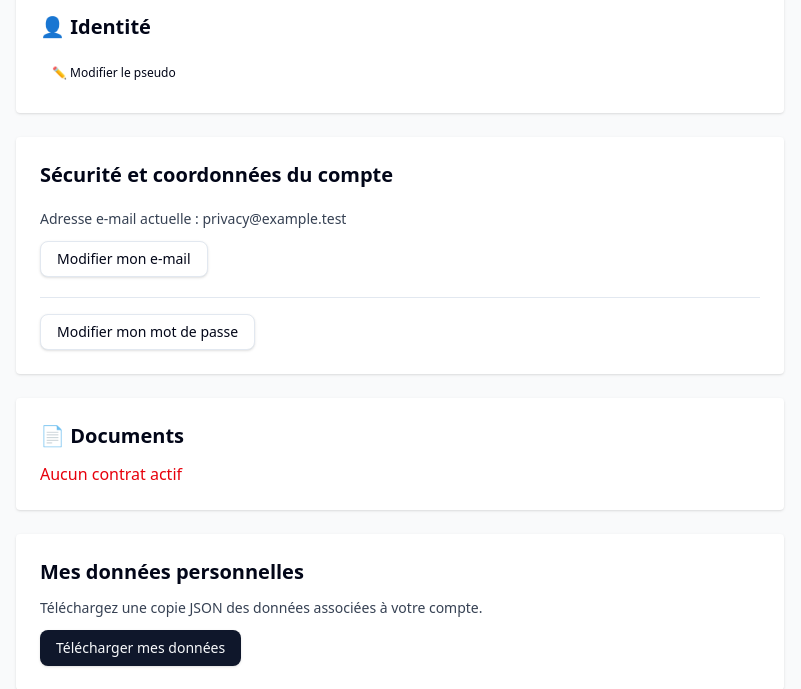
Test: account erasure UI › announces a password change failure accessibly
This screenshot has width=801, height=689.
(page scrolled)
Click the button "Modifier mon mot de passe": (148, 332) [40,314,255,350]
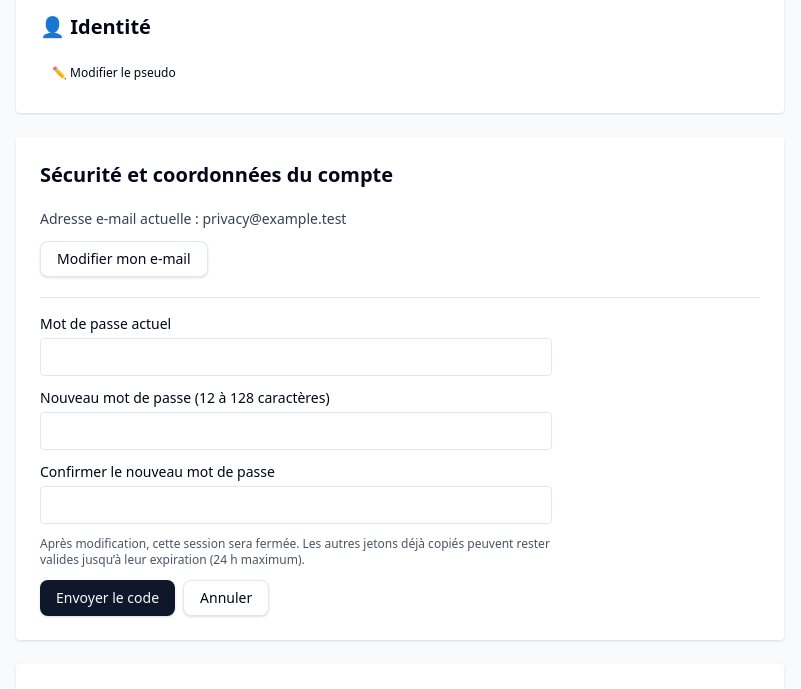
In the password field labelled "Mot de passe actuel": (296, 357) [40,338,552,376], type "bad"
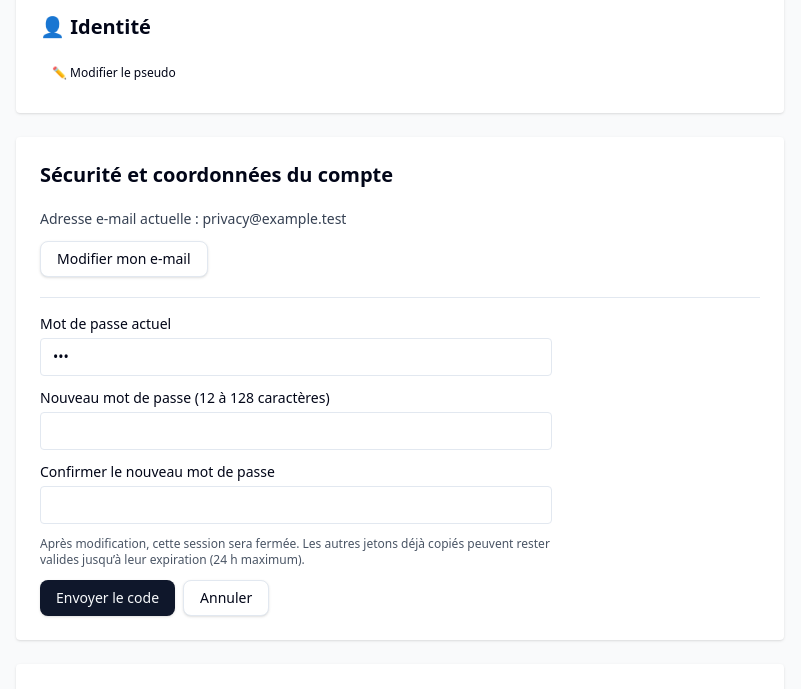
In the password field labelled "Nouveau mot de passe (12 à 128 caractères)": (296, 431) [40,412,552,450], type "ReplacementPassword456!"
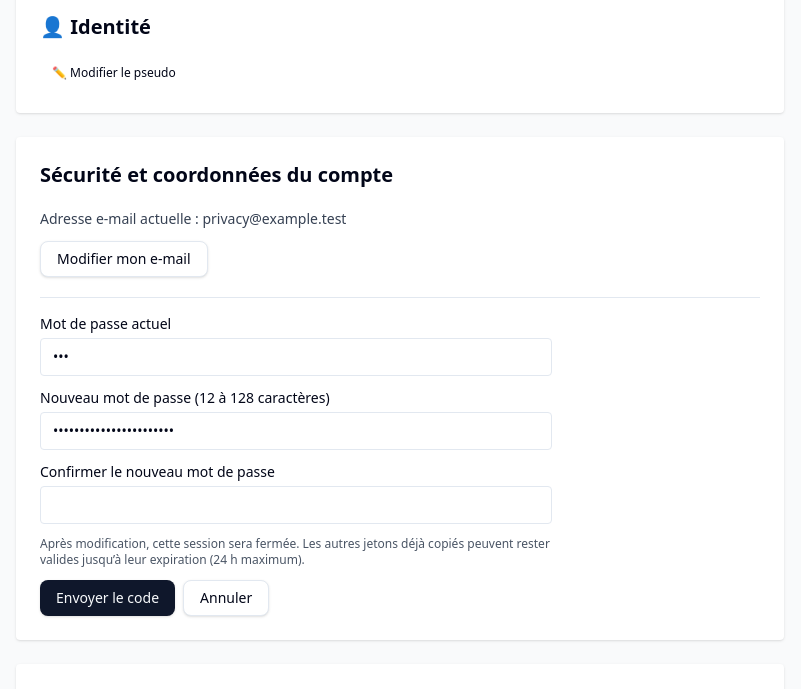
In the password field labelled "Confirmer le nouveau mot de passe": (296, 505) [40,486,552,524], type "ReplacementPassword456!"
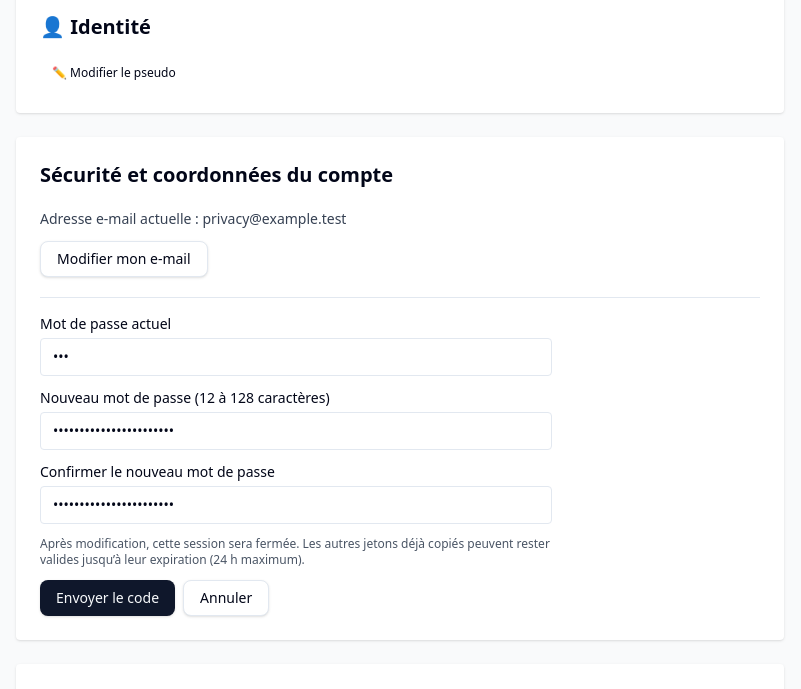
Click the button "Envoyer le code": (108, 598) [40,580,175,616]
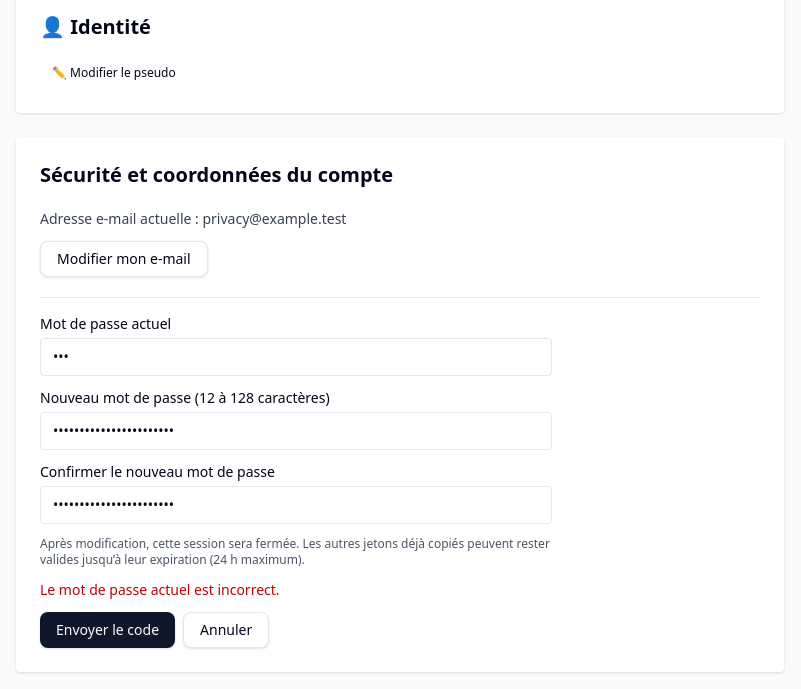
Expected: the message reads "Le mot de passe actuel est incorrect.", [40,580,280,599]
